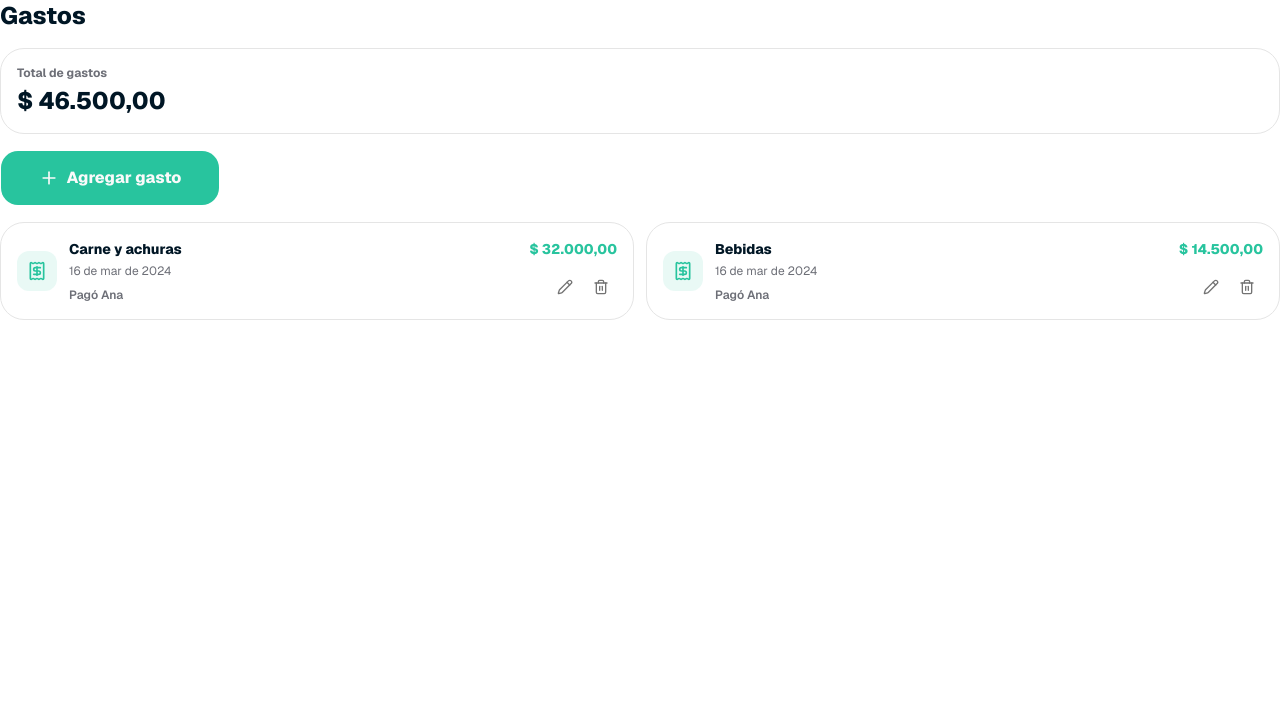
Test: EventExpenses — eliminar gasto › cancelar deja el gasto en la lista y el total igual
Click the button named "Eliminar gasto Carne y achuras" at (601, 287), box [585,271,617,303]
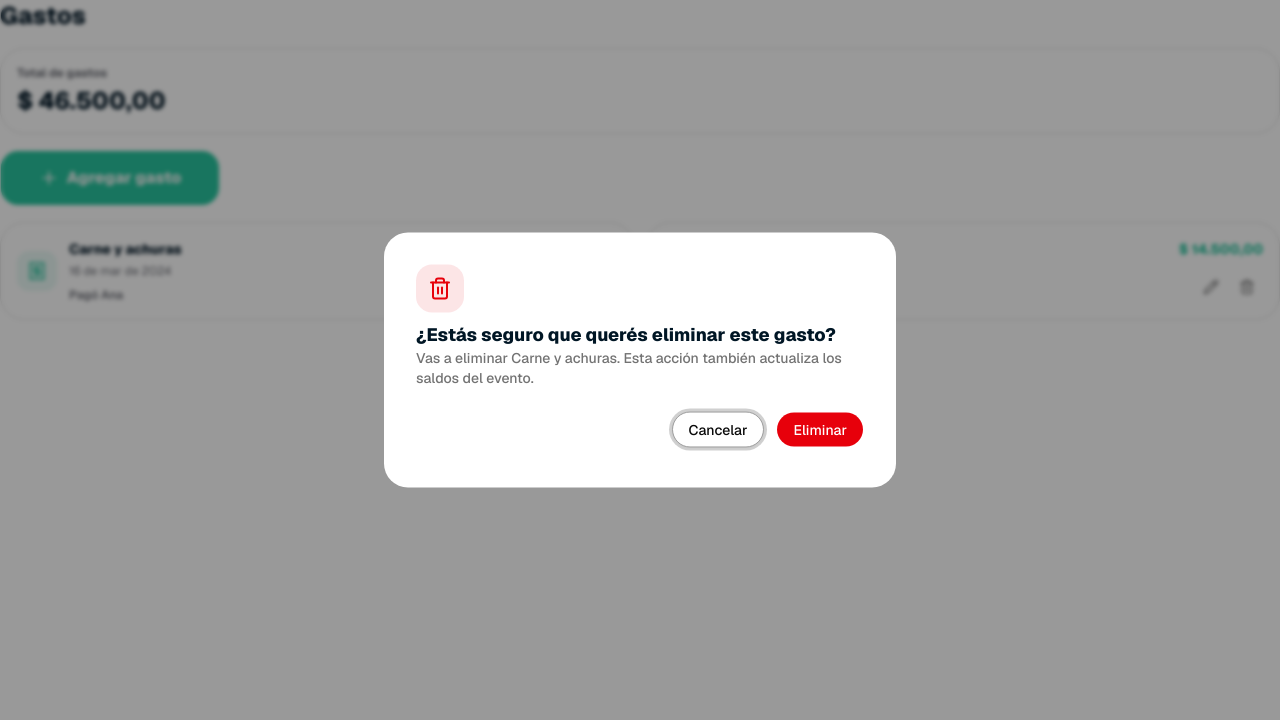
Click the button "Cancelar" at (718, 430), box [672,412,764,448]
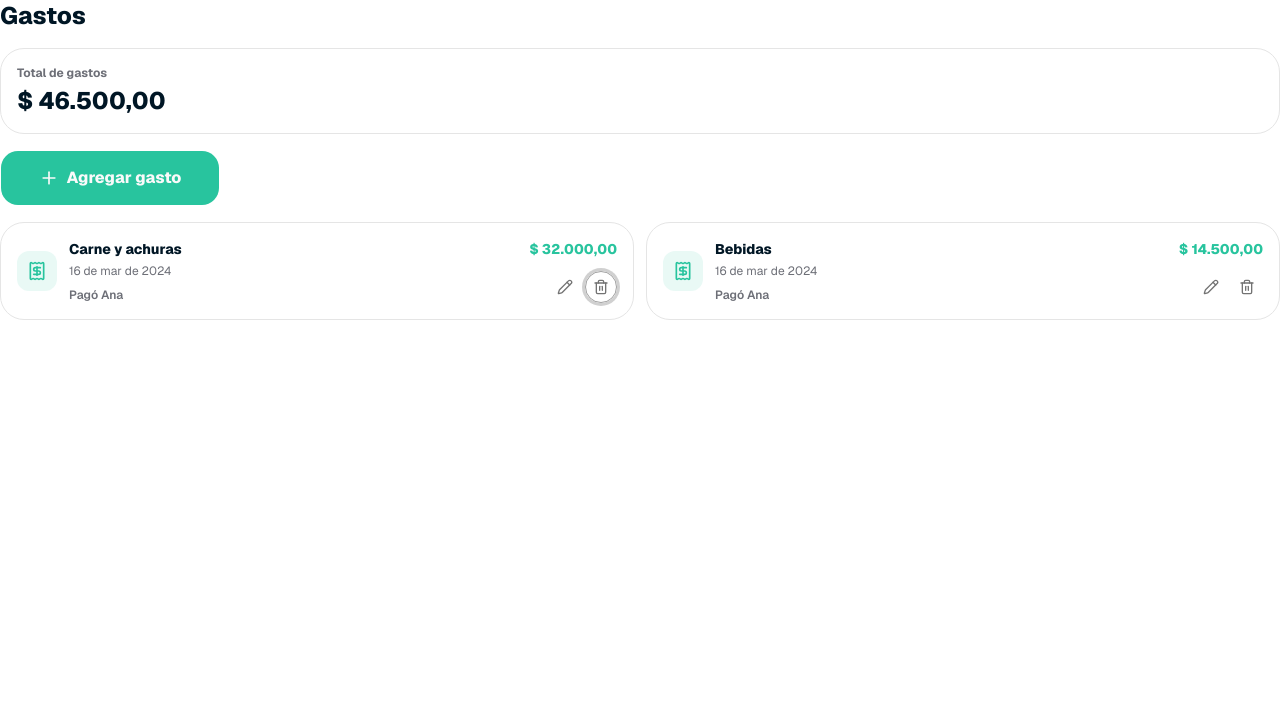
Expected: the heading "Carne y achuras" is shown, [69,240,182,258]
Expected: the dialog is gone
